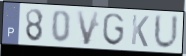0: (49, 9, 72, 45)
8: (24, 7, 45, 43)
G: (101, 12, 125, 47)
K: (130, 13, 150, 49)
U: (152, 12, 180, 51)
V: (75, 9, 102, 47)
